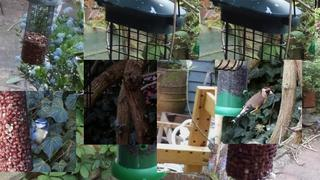blue tit: (26, 118, 49, 151)
goldfinch: (230, 86, 275, 126)
